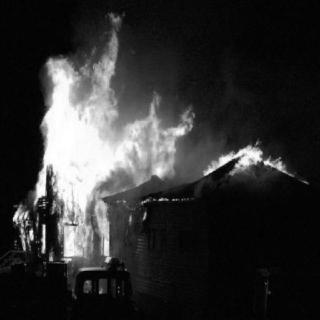Fire: (202, 133, 298, 189)
